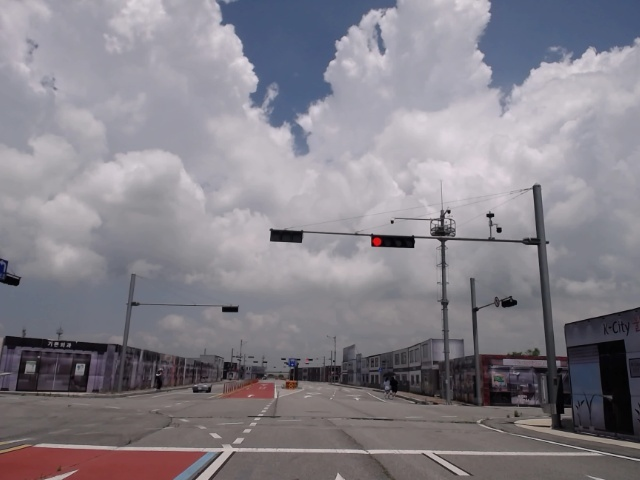red_4: (371, 236, 414, 248)
